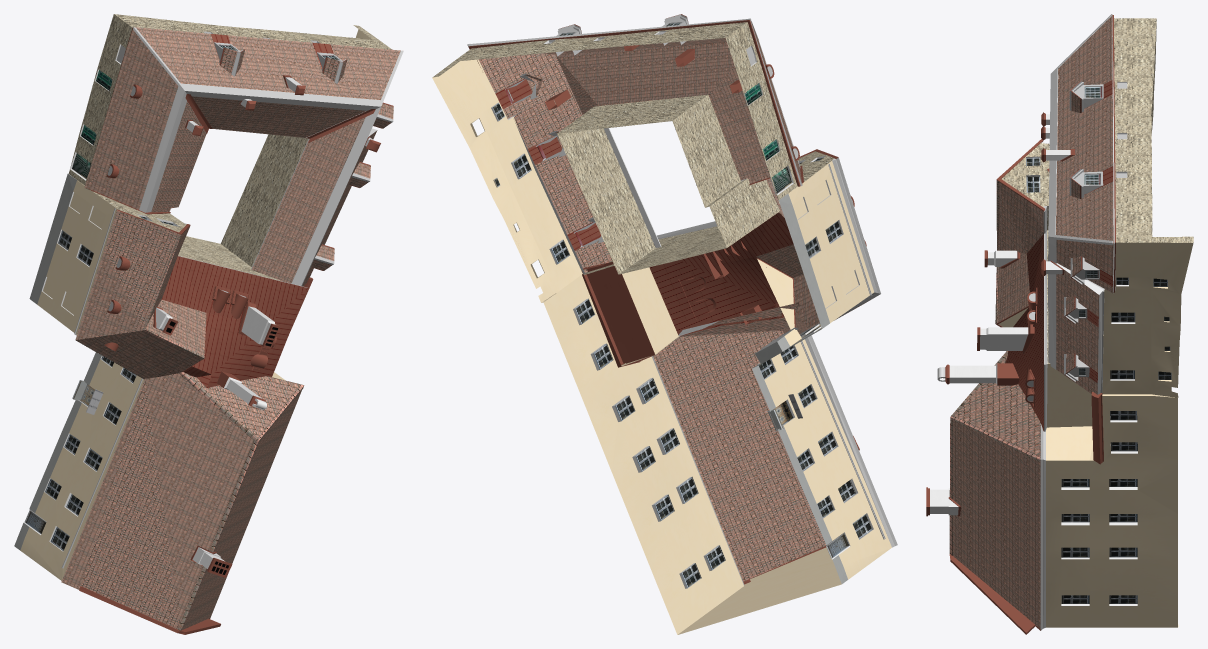
The model's file is Kohtu_10.obj.
3 views of the same model, side by side, from view 1: azimuth 30°, elevation 25°; view 2: azimuth 150°, elevation 25°; view 3: azimuth 270°, elevation 25° (orthographic). The views are drawn at different scales.
Visible parts, largest first — view 1: Kohtu_10; view 2: Kohtu_10; view 3: Kohtu_10.
Boxes of the visible parts, left/top/right/bottom form: Kohtu_10: left=14, top=14, right=403, bottom=634; Kohtu_10: left=432, top=14, right=897, bottom=634; Kohtu_10: left=926, top=14, right=1193, bottom=634.
Bounding box in the file's own units: 40.77 × 59.87 × 24.22.
